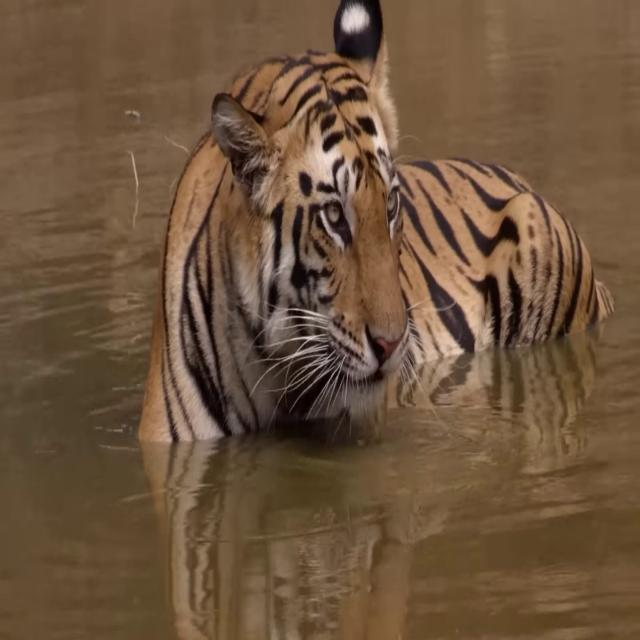tiger: (136, 0, 618, 444)
